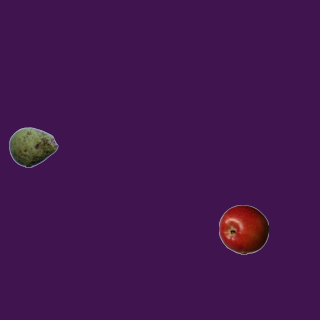Apple Braeburn: (218, 204, 268, 254)
Pear Stone: (8, 122, 58, 172)
